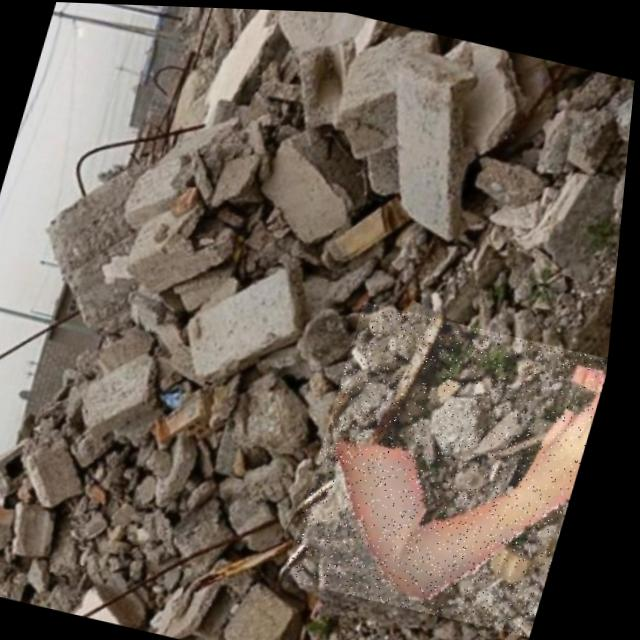Person in Rubble: (290, 296, 618, 634)
